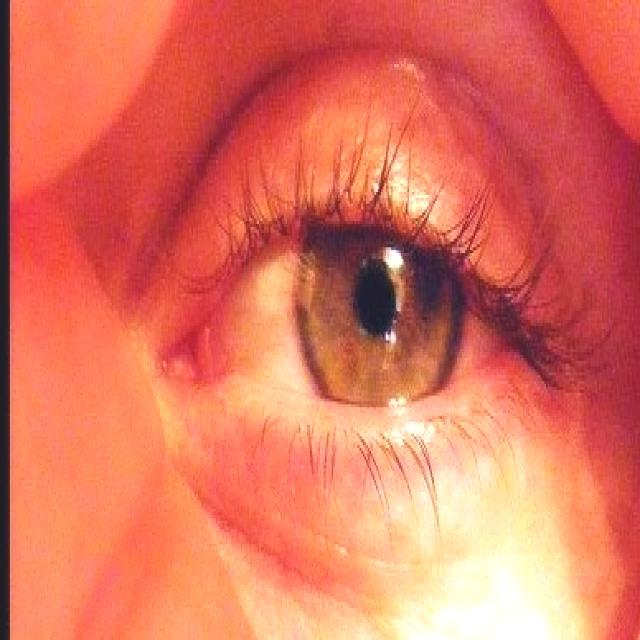Normal: (117, 167, 607, 506)
